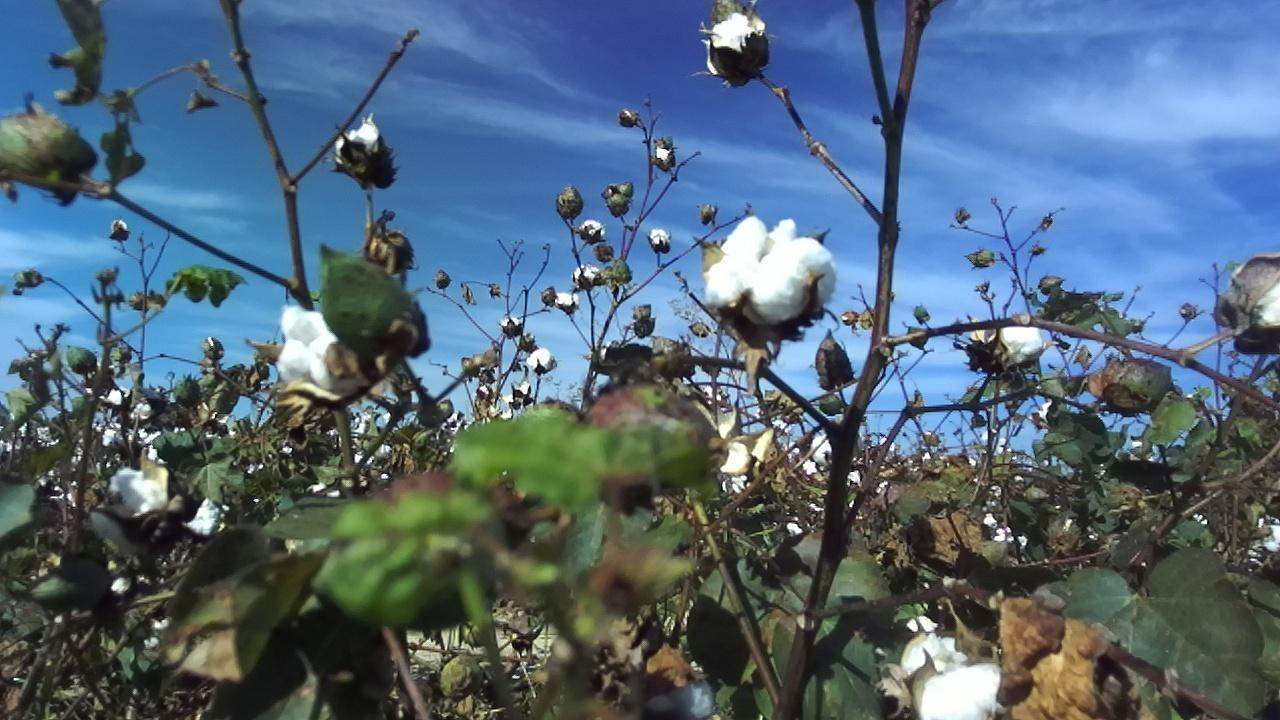cotton_ready: (705, 216, 840, 325), (900, 630, 1008, 720), (698, 10, 770, 90), (277, 307, 344, 392), (1229, 254, 1280, 353), (974, 325, 1046, 369), (109, 465, 167, 519), (333, 114, 388, 167), (1249, 517, 1280, 575)
